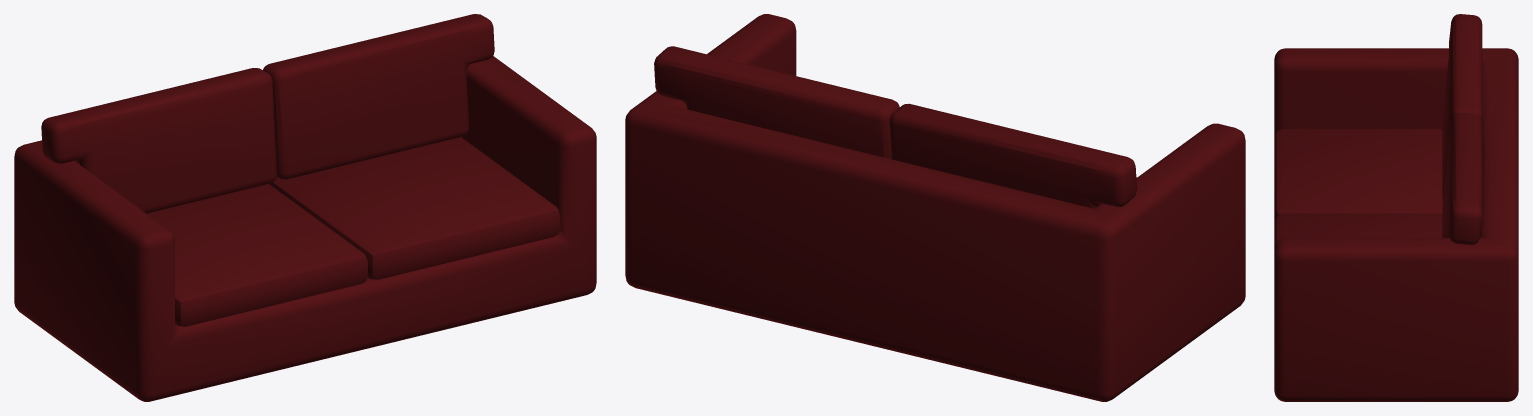
Rendered from SofaTamuDuo.fbx.
3 views of the same model, side by side, from view 1: azimuth 30°, elevation 25°; view 2: azimuth 150°, elevation 25°; view 3: azimuth 270°, elevation 25° (orthographic). The views are drawn at different scales.
Parts seen in each view (by area): view 1: SofaTamuDup; view 2: SofaTamuDup; view 3: SofaTamuDup.
Part boxes in pixels (<box>): SofaTamuDup: <box>14,14,596,401</box>; SofaTamuDup: <box>625,14,1245,401</box>; SofaTamuDup: <box>1274,14,1518,401</box>.
Bounding box in the file's own units: 172 × 74.45 × 86.
